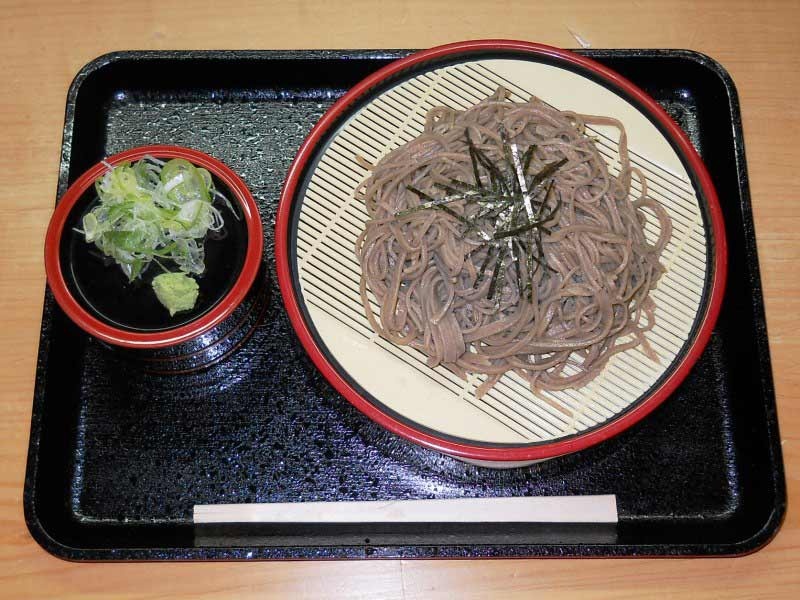Soba: (372, 93, 684, 395)
